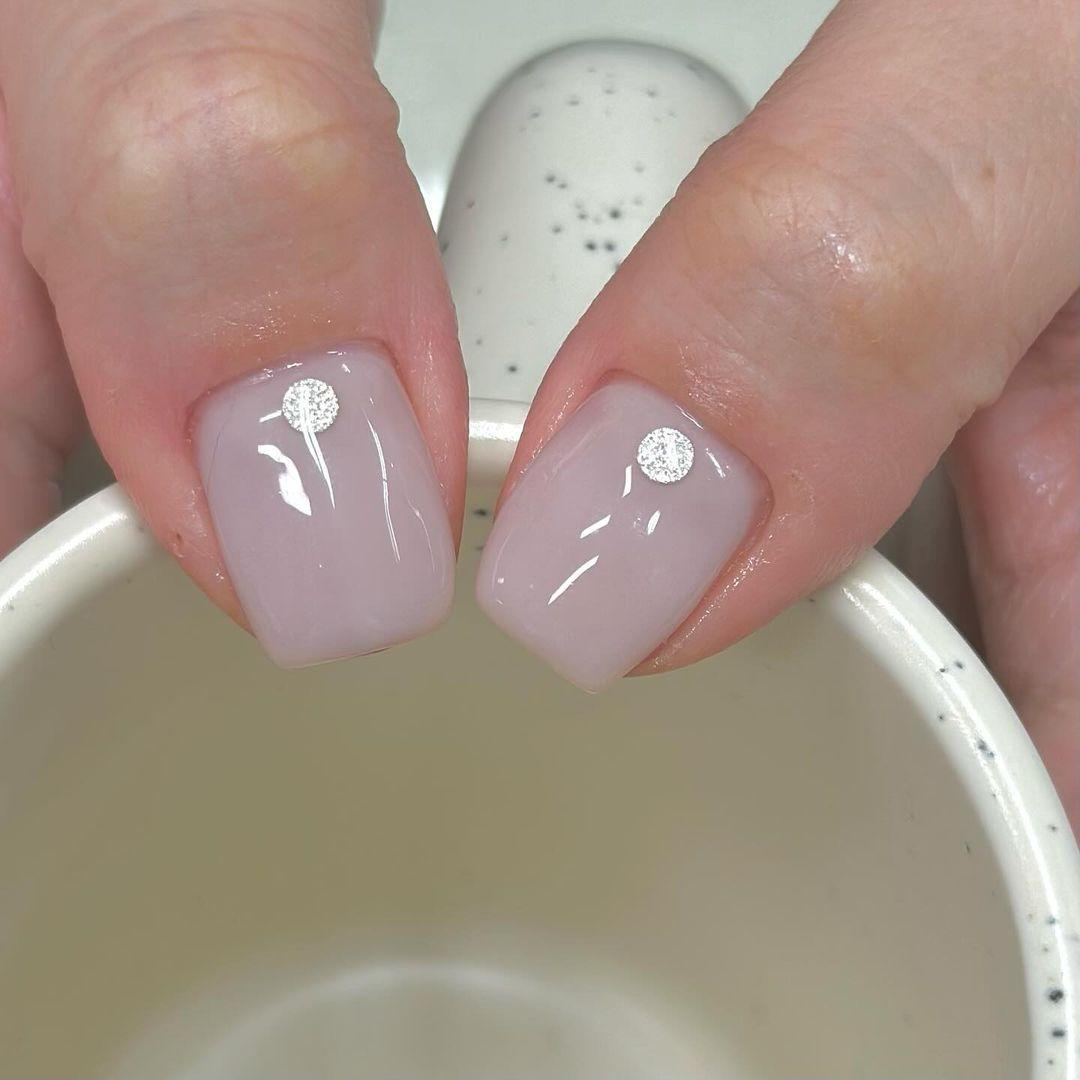nail: (472, 368, 773, 694), (186, 339, 458, 669)
